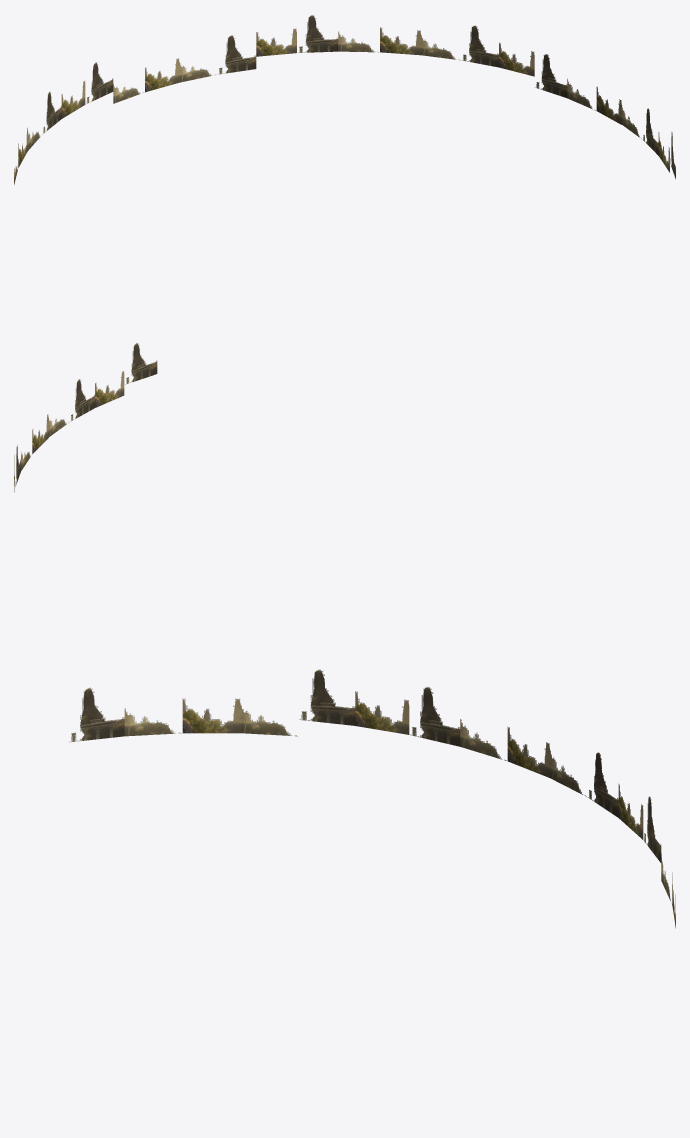
3 renders of one model, top to bottom at view 1: azimuth 30°, elevation 25°; view 2: azimuth 150°, elevation 25°; view 3: azimuth 270°, elevation 25°, orthographic. The views are drawn at different scales.
Visible parts, largest first — view 1: OM_60_wv_bg02A; view 2: OM_60_wv_bg02A; view 3: OM_60_wv_bg02A.
Boxes of the visible parts, box(x1,y1,x2,y2) form: OM_60_wv_bg02A: box(14, 15, 675, 184); OM_60_wv_bg02A: box(14, 343, 157, 492); OM_60_wv_bg02A: box(69, 669, 675, 928).
Size of the model in its own units: 919 by 76.19 by 656.
1 material, 1 textured.
